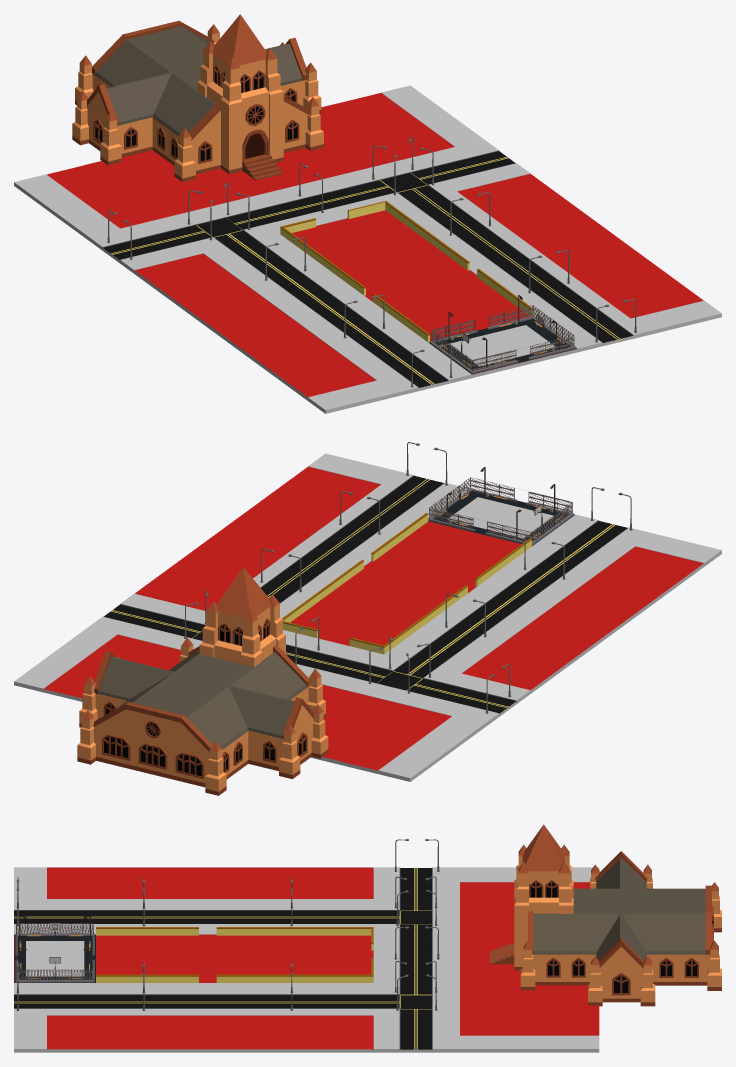
The model's file is street404.obj.
The picture shows the model from 3 angles, top to bottom: view 1: azimuth 30°, elevation 25°; view 2: azimuth 150°, elevation 25°; view 3: azimuth 270°, elevation 25°; orthographic projection. The views are drawn at different scales.
Visible parts, largest first — view 1: Cube, church2, Base, Court; view 2: Cube, church2, Base, Court; view 3: Cube, church2, Base, Court.
Boxes of the visible parts, x1,y1,x2,y2 form: Cube: (14, 85, 721, 413); church2: (72, 14, 323, 182); Base: (429, 305, 576, 374); Court: (449, 325, 555, 366); Cube: (14, 453, 721, 781); church2: (77, 567, 328, 795); Base: (428, 477, 574, 546); Court: (448, 497, 553, 538); Cube: (14, 867, 599, 1052); church2: (489, 824, 721, 1006); Base: (14, 923, 95, 982); Court: (26, 941, 84, 976).
Bounding box in the file's own units: 12.86 × 4.51 × 21.17.
